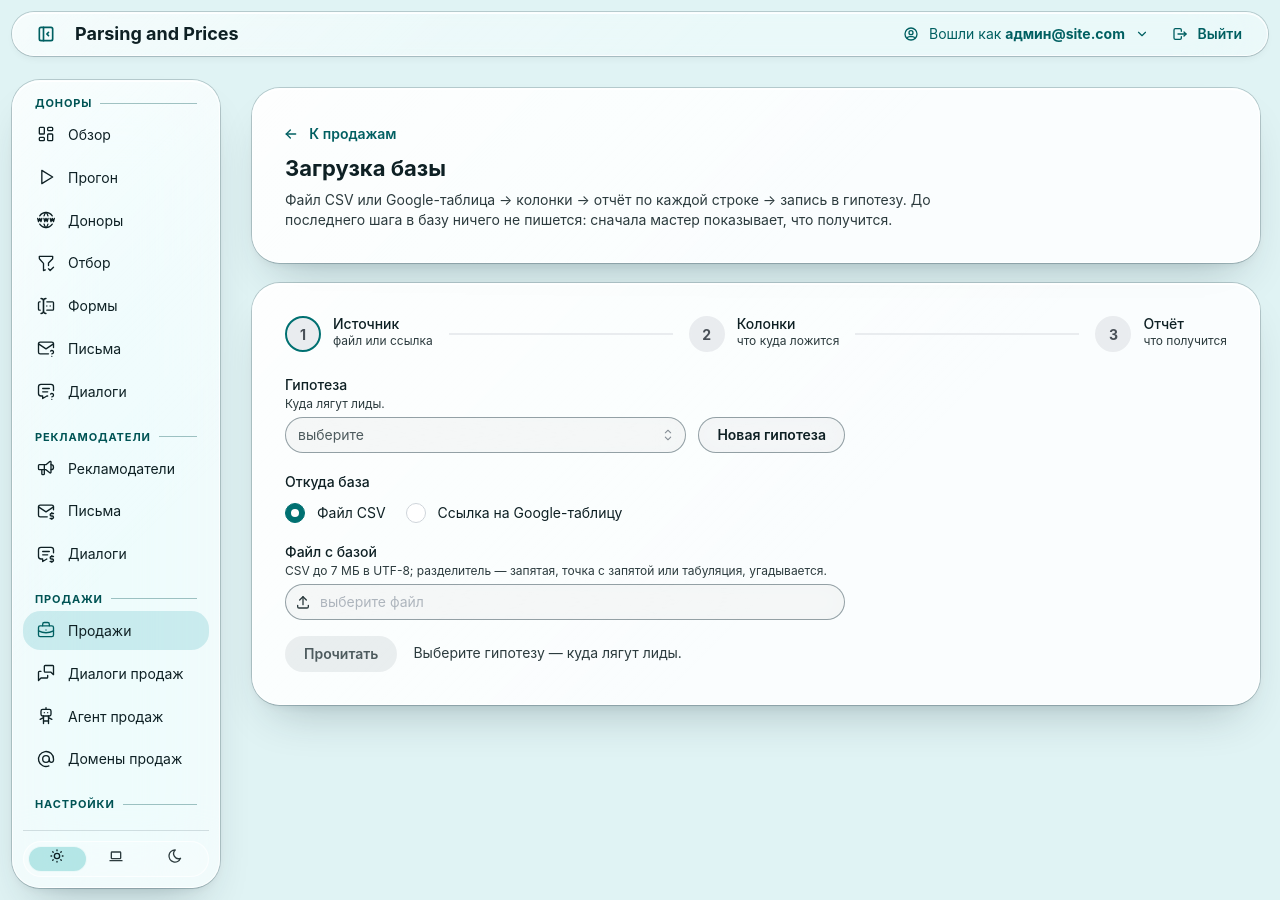
Test case: мастер загрузки › ссылка на таблицу уходит формой, а отказ сервера показан целиком
Expected: the heading "Загрузка базы" is shown, [285,155,446,181]
Click the field labelled "Гипотеза": (486, 435) [285,417,686,453]
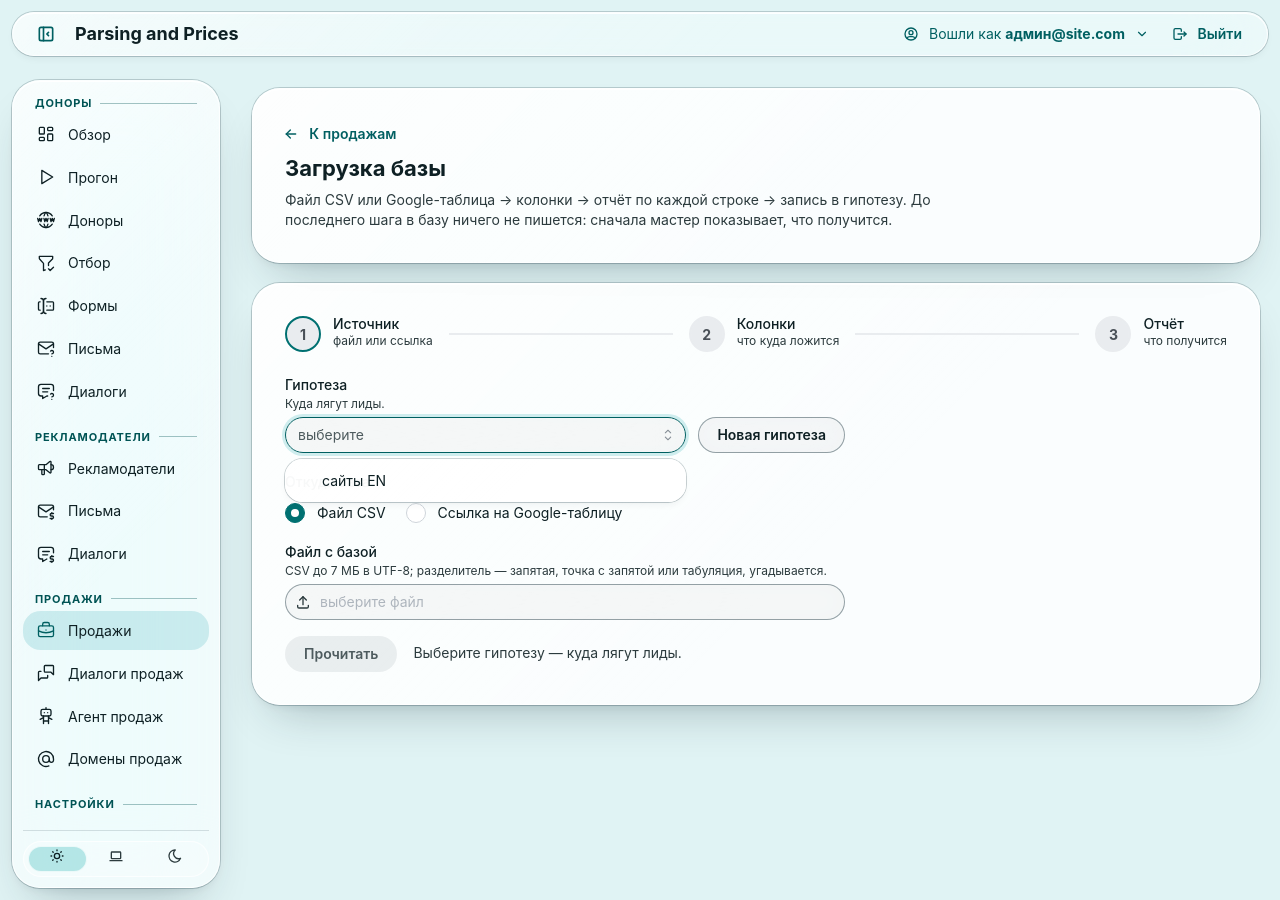
Click the option "сайты EN": (354, 480) [322,472,386,489]
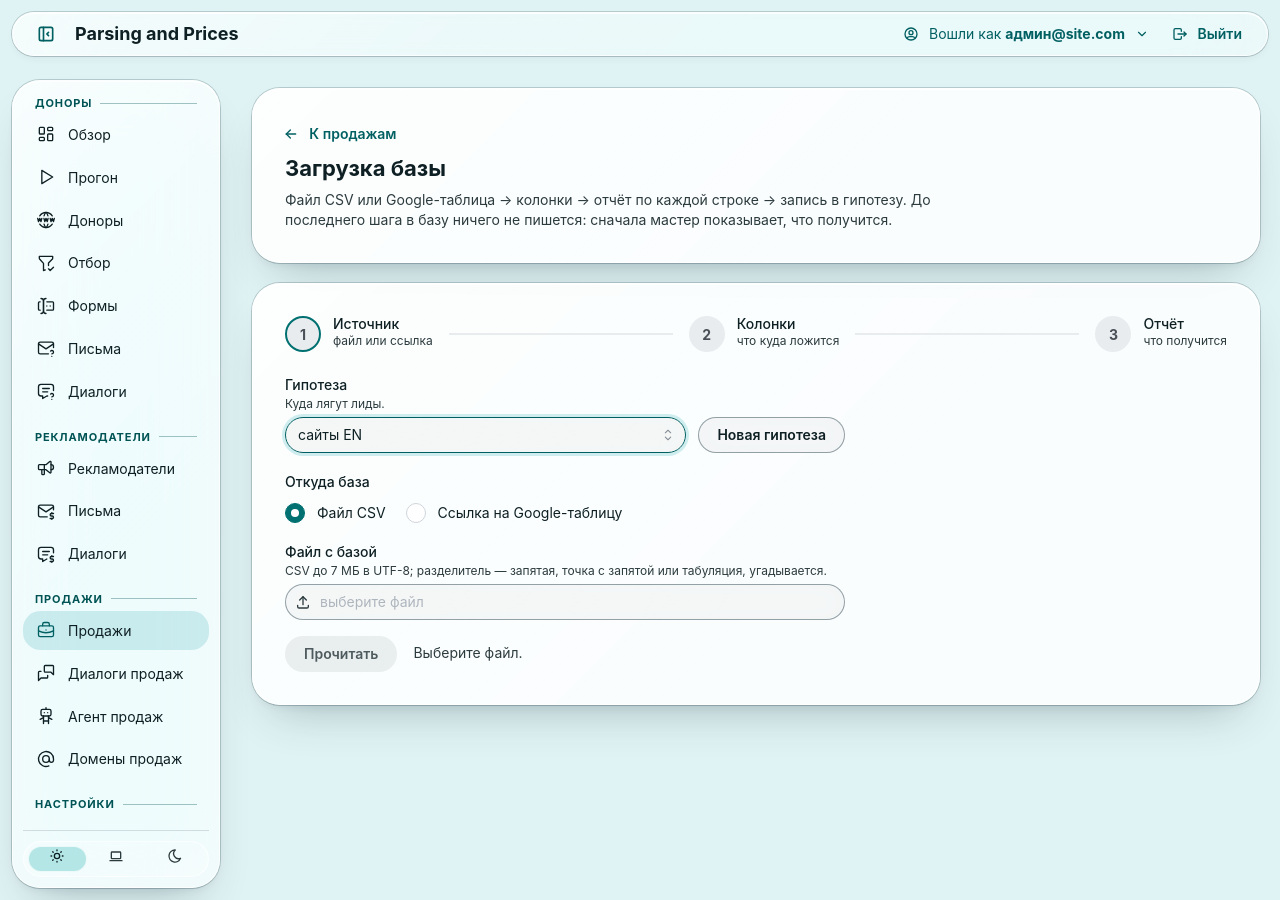
Click the radio button labelled "Ссылка на Google-таблицу": (416, 513) [406,503,426,523]
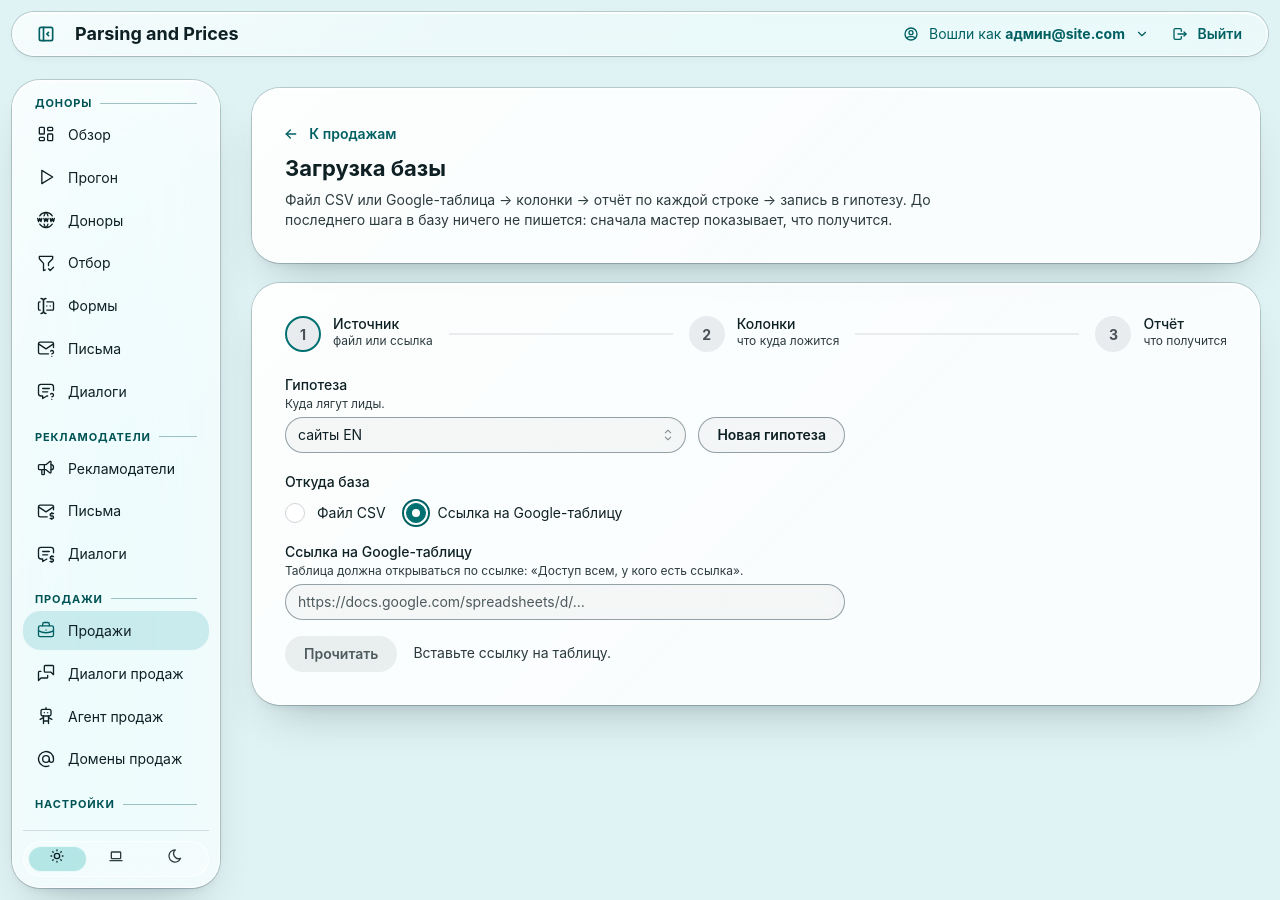
In the field labelled "Ссылка на Google-таблицу": (565, 602) [285,584,845,620], type "https://docs.google.com/spreadsheets/d/abc/edit"
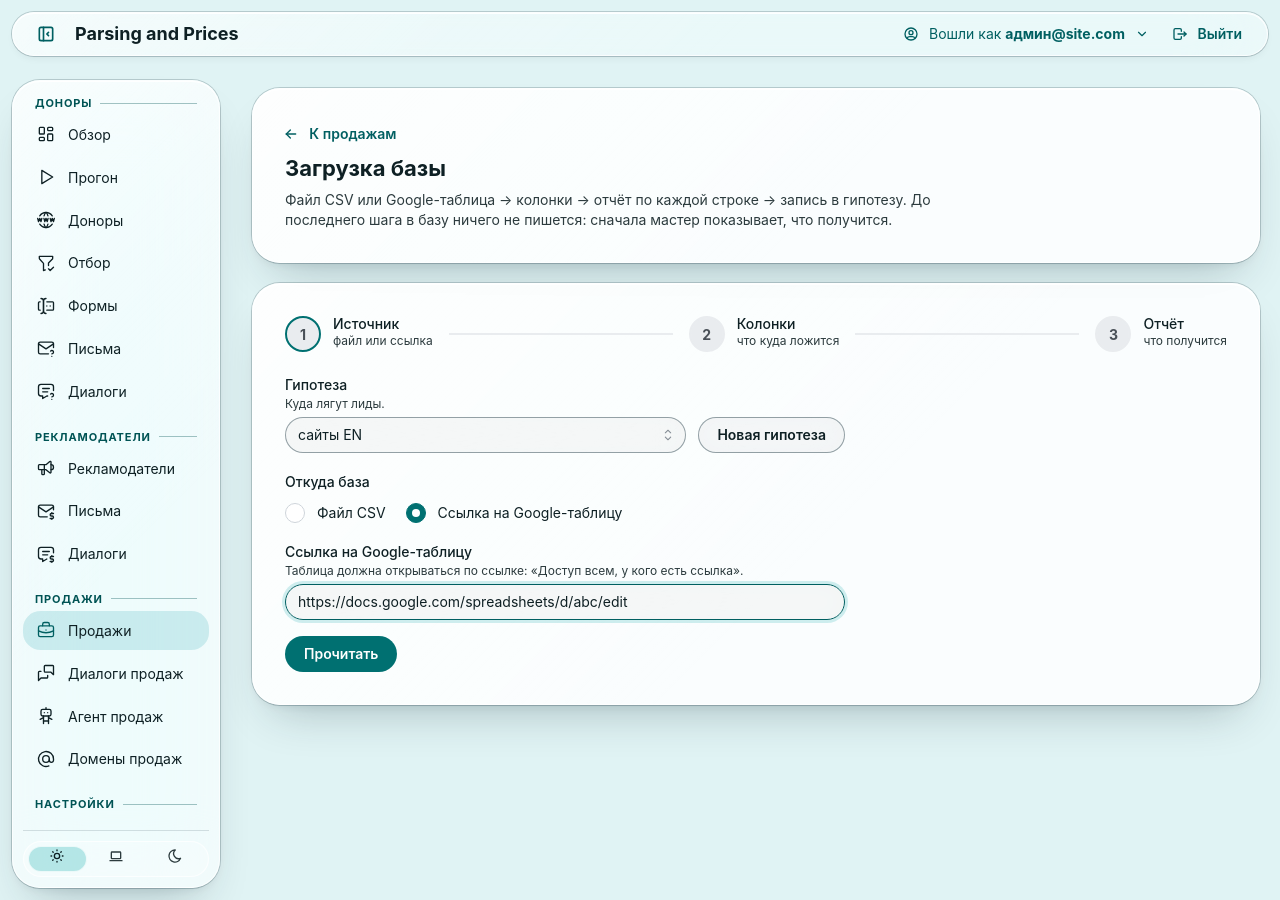
Click the button "Прочитать": (341, 654) [285,636,397,672]
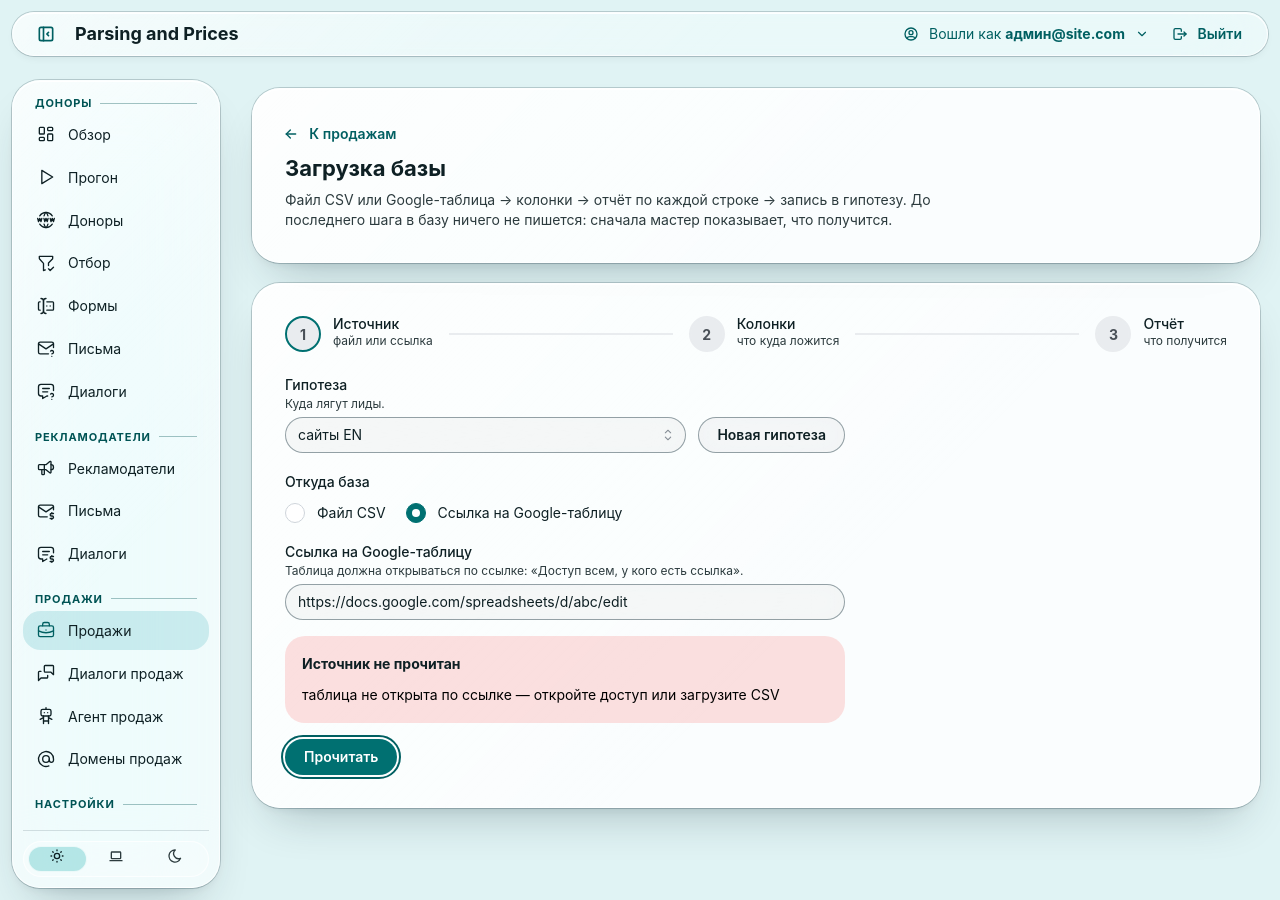
Expected: the button "Прочитать" is shown, [285,739,397,775]
Expected: the text "таблица не открыта по ссылке — откройте доступ или загрузите CSV" is shown, [302,684,828,706]
